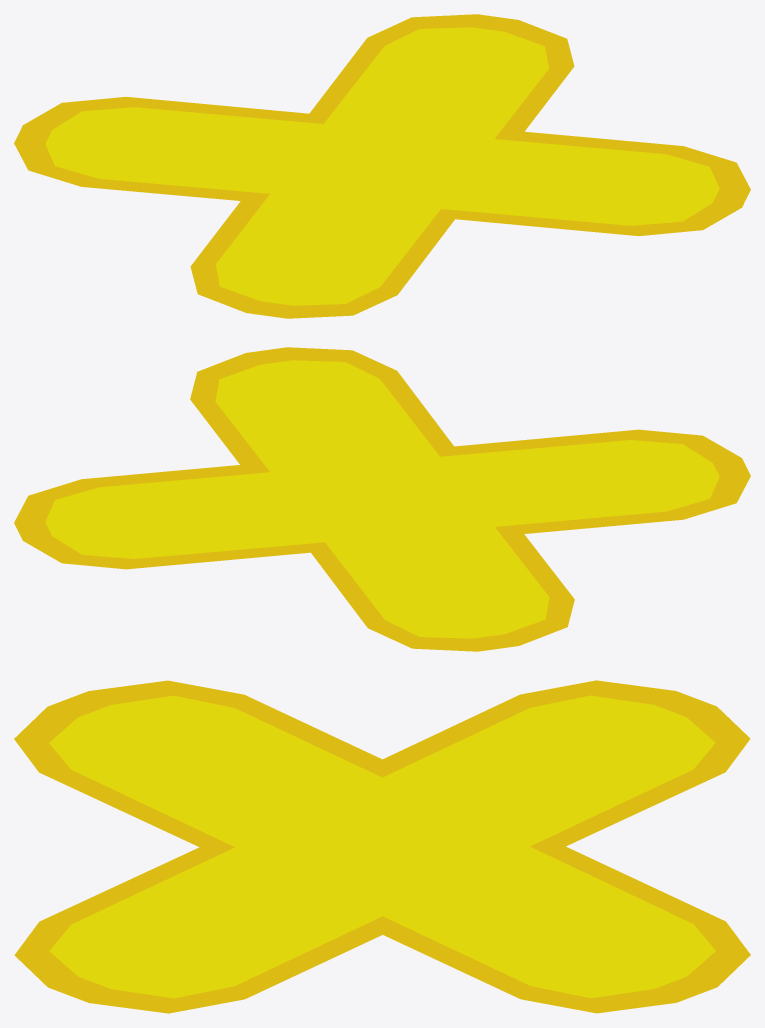
Rendered from top_cross.fbx.
3 renders of one model, top to bottom at view 1: azimuth 30°, elevation 25°; view 2: azimuth 150°, elevation 25°; view 3: azimuth 270°, elevation 25°, orthographic. The views are drawn at different scales.
Parts seen in each view (by area): view 1: top_cross; view 2: top_cross; view 3: top_cross.
Boxes of the visible parts, left/top/right/bottom form: top_cross: left=14, top=14, right=750, bottom=318; top_cross: left=14, top=347, right=750, bottom=651; top_cross: left=14, top=680, right=750, bottom=1013.
Size of the model in its own units: 4.48 by 0 by 4.19.
